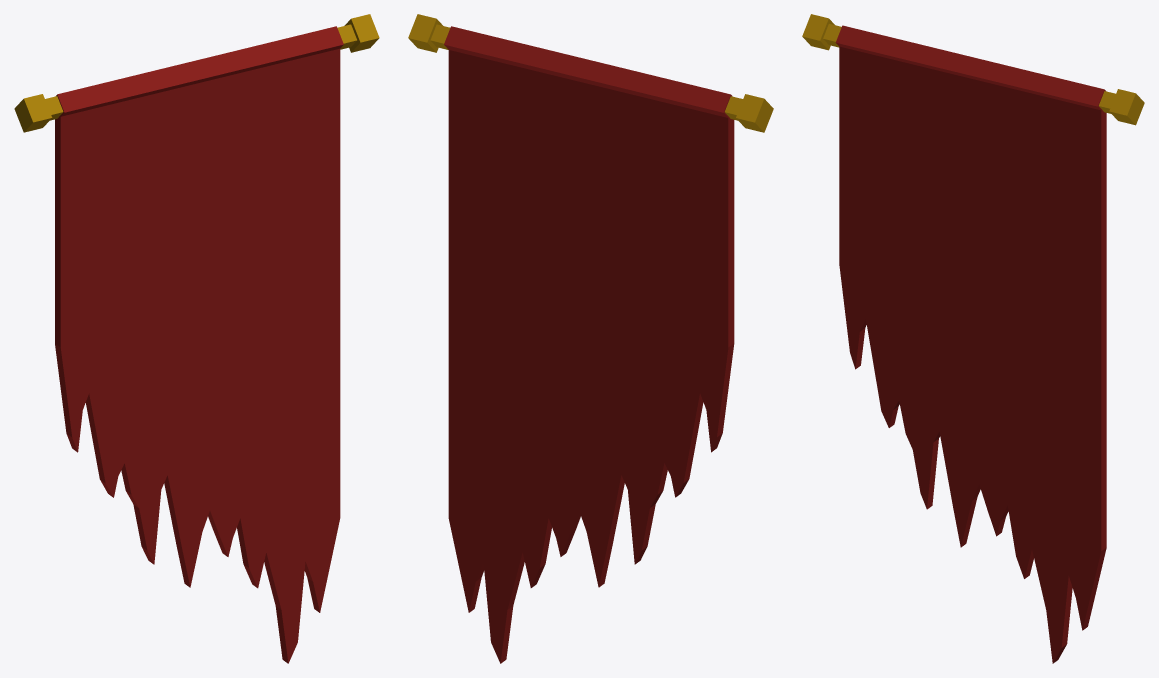
Rendered from BannerRipped.fbx.
The picture shows the model from 3 angles, left to right: view 1: azimuth 30°, elevation 25°; view 2: azimuth 150°, elevation 25°; view 3: azimuth 330°, elevation 25°; orthographic projection. The views are drawn at different scales.
Visible parts, largest first — view 1: Cube.015; view 2: Cube.015; view 3: Cube.015.
Boxes of the visible parts, x1,y1,x2,y2 form: Cube.015: (14, 14, 379, 663); Cube.015: (408, 14, 773, 663); Cube.015: (802, 14, 1144, 663).
Size of the model in its own units: 2.72 by 0.2566 by 4.7.
